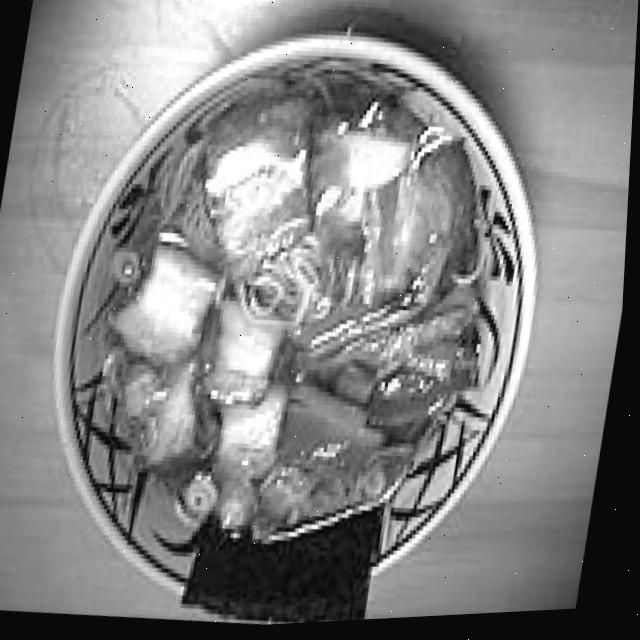面条主食: (3, 0, 592, 639)
